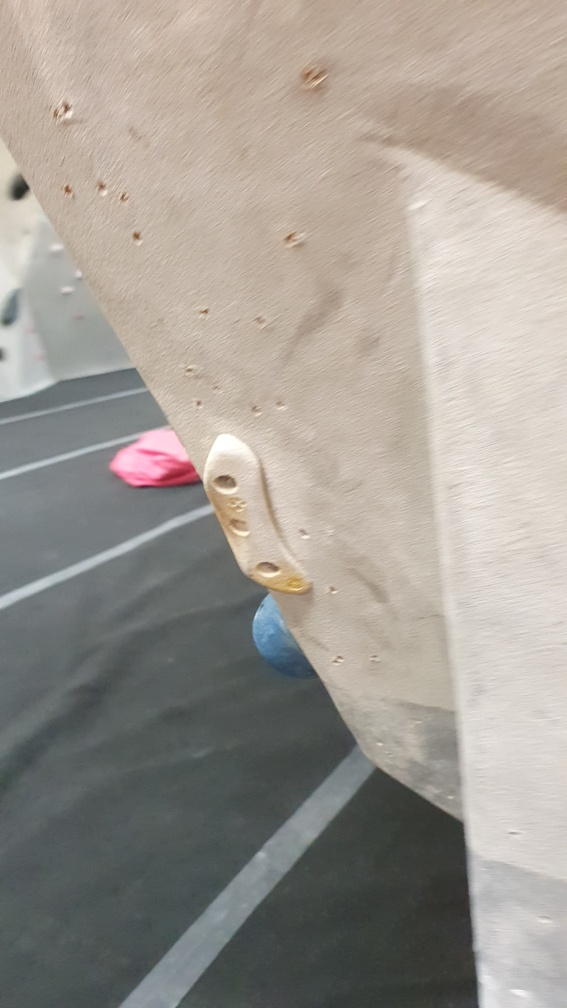Crimp: (206, 436, 315, 601)
Sloper: (251, 591, 320, 680)
